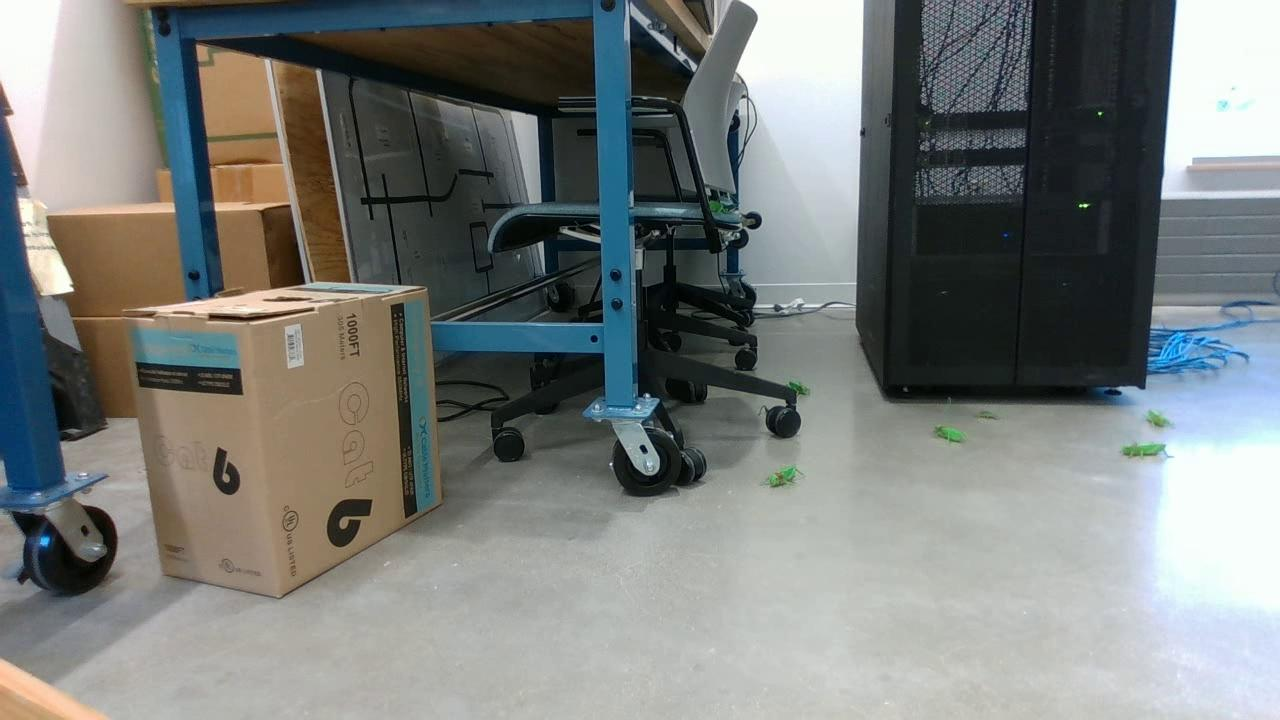grasshopper: (1118, 440, 1169, 462), (930, 421, 970, 448), (763, 463, 800, 490), (1141, 405, 1171, 433), (784, 377, 809, 398), (704, 197, 724, 214)
